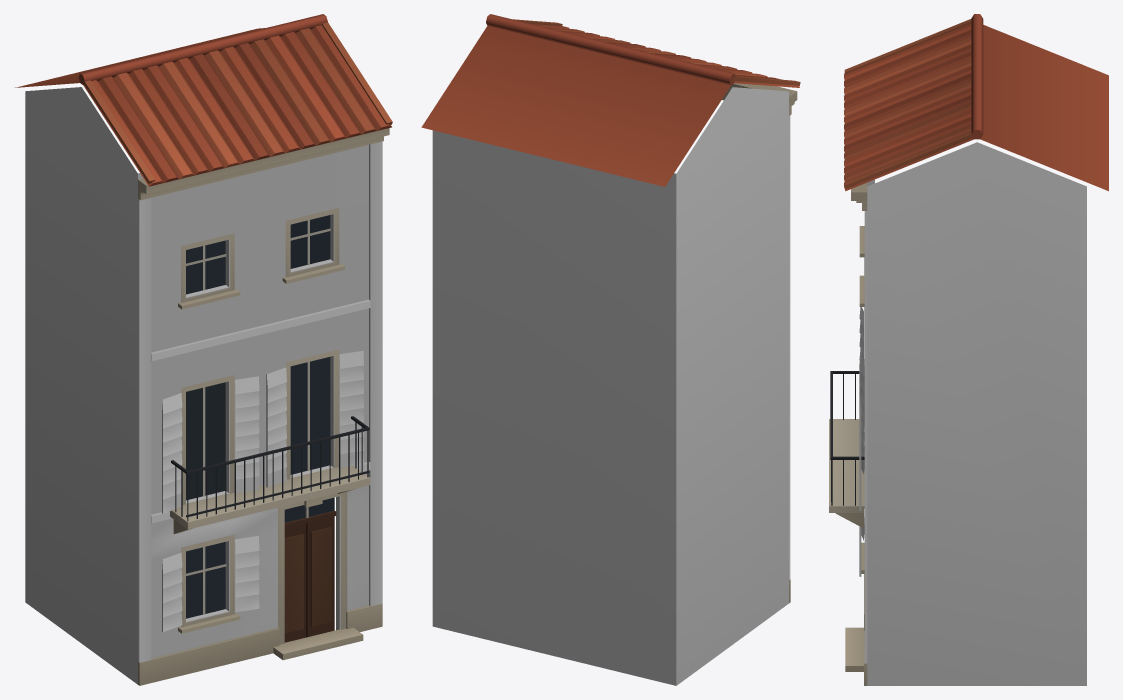
The model's file is plaza-house-b.glb.
The picture shows the model from 3 angles, left to right: view 1: azimuth 30°, elevation 25°; view 2: azimuth 150°, elevation 25°; view 3: azimuth 270°, elevation 25°; orthographic projection. The views are drawn at different scales.
Parts seen in each view (by area): view 1: stucco, trim, shutters; view 2: stucco, trim; view 3: stucco, trim, shutters.
Boxes of the visible parts, x1=… form: stucco: x1=25, y1=87, x2=382, y2=684; trim: x1=15, y1=14, x2=392, y2=685; shutters: x1=162, y1=350, x2=363, y2=631; stucco: x1=432, y1=87, x2=790, y2=685; trim: x1=421, y1=14, x2=800, y2=603; stucco: x1=864, y1=142, x2=1086, y2=685; trim: x1=829, y1=14, x2=1108, y2=685; shutters: x1=859, y1=307, x2=864, y2=576.
Bounding box in the file's own units: 5 × 11.18 × 5.1.
